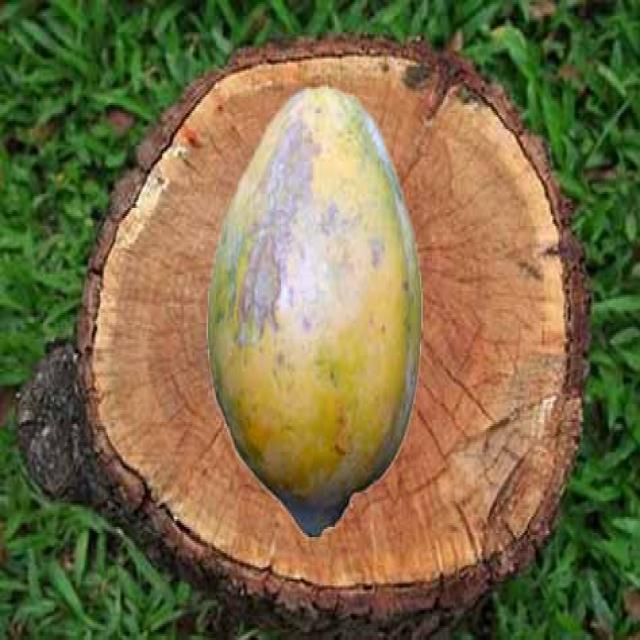Pepaya rippen: (200, 63, 413, 537)
